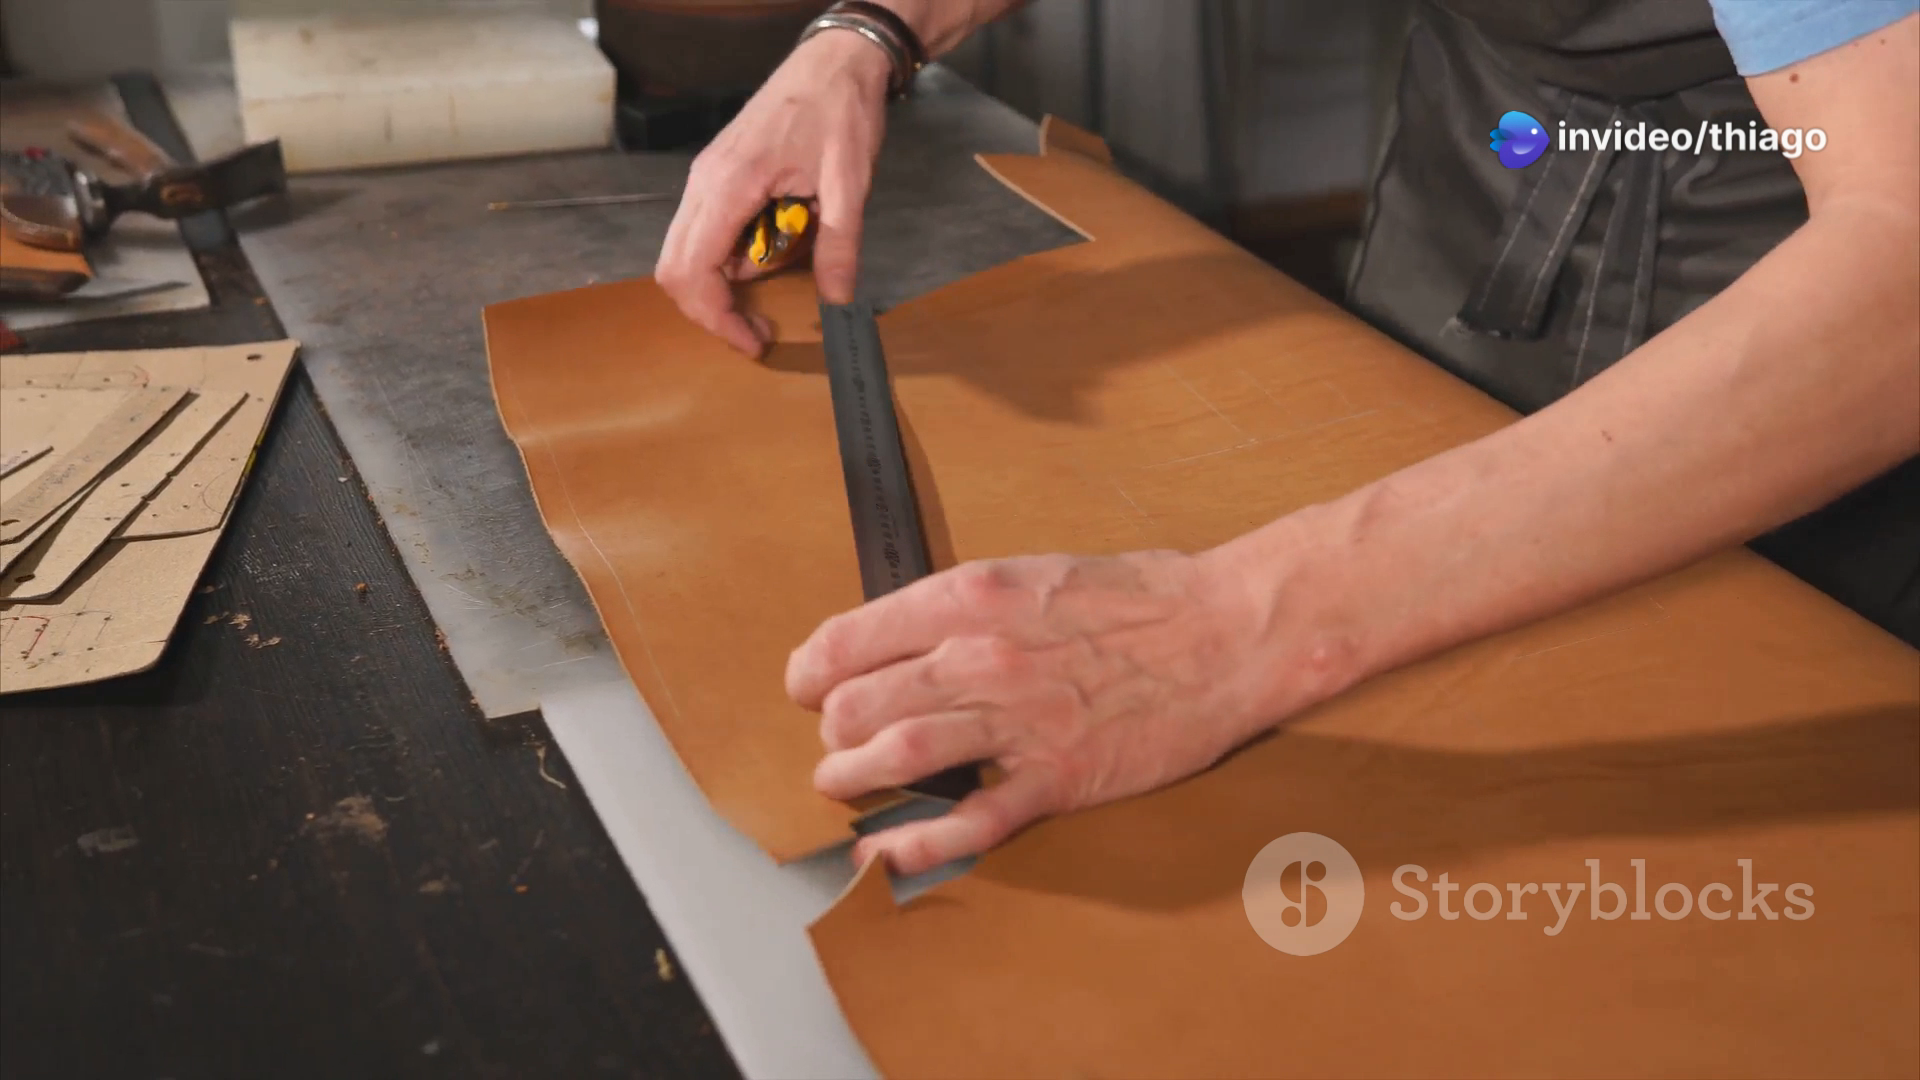cortante: (742, 235, 796, 268)
